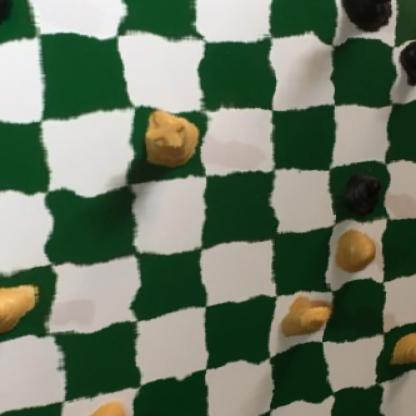black-bishop: (336, 170, 382, 219)
black-king: (340, 0, 399, 40)
black-pawn: (398, 31, 416, 85)
black-rook: (0, 0, 21, 29)
white-king: (280, 286, 332, 348)
white-pawn: (0, 270, 53, 341), (335, 223, 378, 278), (71, 391, 138, 416), (390, 326, 416, 377)
white-rook: (136, 106, 196, 176)
